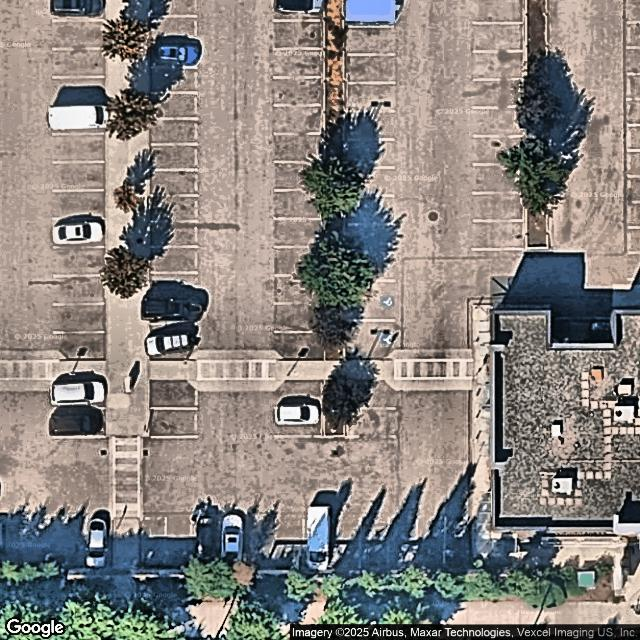car: (44, 103, 111, 130), (143, 294, 204, 323), (304, 505, 330, 573), (147, 38, 203, 66), (51, 378, 105, 406), (196, 511, 222, 567), (48, 410, 101, 436), (85, 516, 109, 572), (145, 332, 197, 357), (222, 513, 245, 565), (52, 222, 103, 245), (277, 401, 320, 427), (51, 0, 106, 16), (273, 0, 324, 17)
lot_boundary: (1, 0, 640, 575)
objects: (106, 0, 151, 435), (326, 0, 344, 360), (527, 0, 547, 247), (344, 0, 396, 25)
stall: (345, 282, 397, 320), (345, 321, 396, 359), (0, 515, 31, 571), (360, 518, 391, 570), (193, 518, 223, 571), (304, 518, 333, 572), (54, 246, 105, 276), (54, 332, 105, 362), (53, 103, 104, 133), (53, 132, 104, 162), (53, 18, 104, 48), (333, 518, 361, 571), (274, 77, 325, 106), (345, 54, 396, 83), (345, 26, 396, 55), (472, 22, 523, 51), (472, 51, 523, 80), (473, 107, 524, 136), (273, 331, 324, 360), (346, 252, 397, 281), (346, 197, 397, 226), (274, 162, 325, 191), (152, 294, 203, 323), (53, 161, 104, 190), (53, 275, 104, 304), (54, 303, 105, 332), (53, 77, 104, 106), (53, 47, 104, 76), (53, 380, 104, 409), (345, 83, 395, 112), (473, 164, 523, 193), (273, 303, 323, 332), (53, 217, 103, 246), (53, 408, 103, 437), (392, 517, 418, 572), (445, 516, 471, 571), (250, 518, 276, 573), (85, 515, 111, 570), (31, 515, 57, 570), (58, 515, 84, 570), (472, 79, 523, 107), (473, 192, 524, 220), (473, 221, 524, 249), (273, 275, 324, 303), (346, 224, 397, 252), (346, 169, 397, 197), (346, 141, 397, 169), (345, 112, 396, 140), (274, 106, 325, 134), (274, 133, 325, 161), (275, 220, 326, 248), (274, 247, 325, 275), (274, 21, 325, 49), (273, 49, 324, 77), (165, 517, 191, 571), (419, 517, 445, 571), (277, 518, 303, 572), (225, 518, 251, 572), (473, 136, 523, 164), (275, 191, 325, 219), (153, 324, 203, 352), (53, 191, 103, 218), (348, 409, 396, 437), (347, 382, 396, 409), (142, 517, 166, 571), (276, 410, 324, 436), (277, 382, 323, 409), (152, 272, 196, 300), (151, 119, 196, 146), (152, 220, 197, 247), (151, 68, 196, 95), (152, 42, 197, 69), (152, 16, 197, 43), (151, 382, 196, 409), (152, 410, 197, 437), (152, 245, 196, 272), (152, 93, 196, 120), (153, 172, 197, 199), (152, 146, 196, 173), (472, 0, 523, 23), (274, 0, 325, 21), (53, 0, 105, 19), (153, 200, 197, 222), (151, 0, 197, 16)
